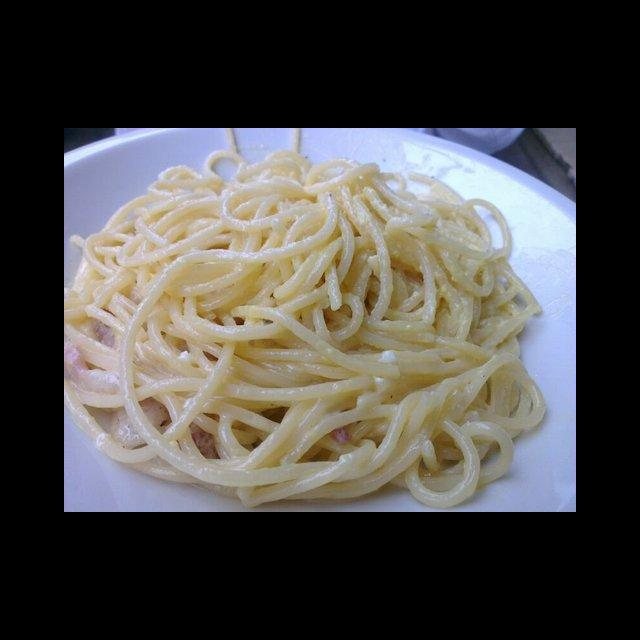noodles: (64, 147, 547, 512)
